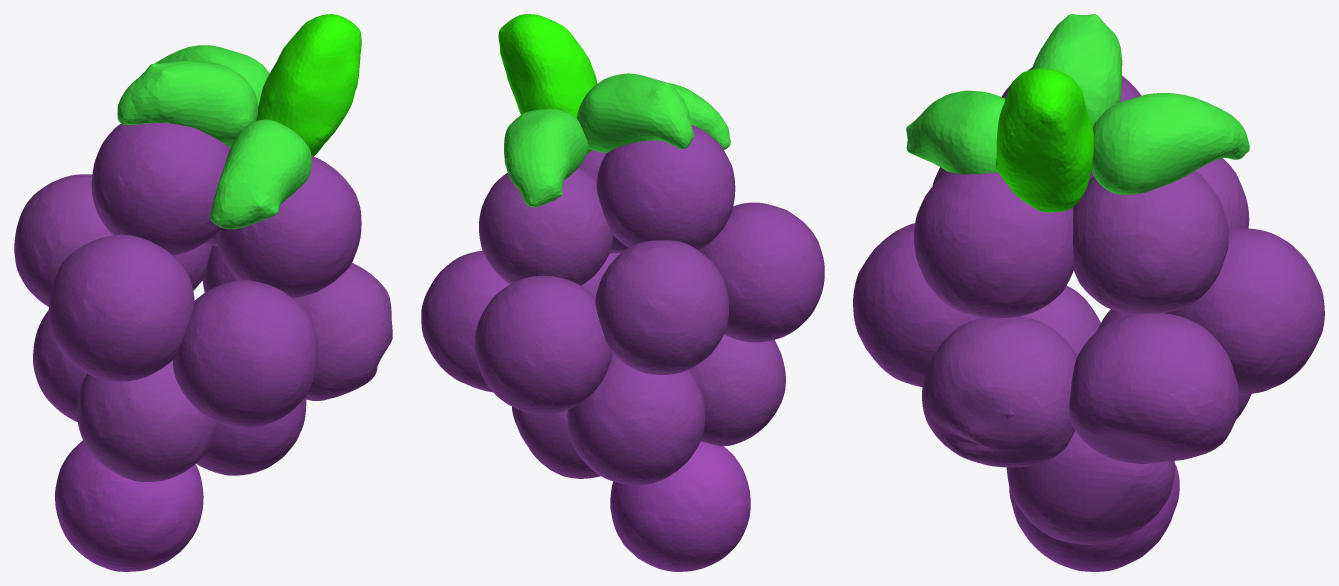
The model's file is full_grape.obj.
The picture shows the model from 3 angles, left to right: view 1: azimuth 30°, elevation 25°; view 2: azimuth 150°, elevation 25°; view 3: azimuth 270°, elevation 25°; orthographic projection. The views are drawn at different scales.
Bounding box in the file's own units: 0.4148 × 0.604 × 0.437.
